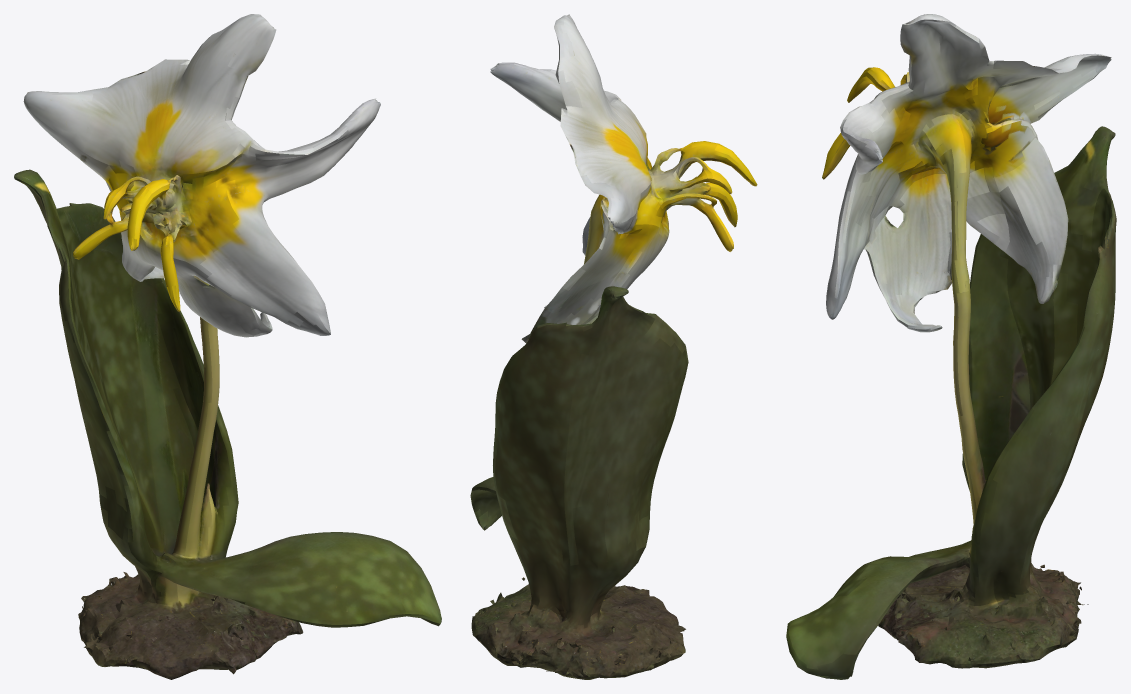
Rendered from 2цветокtled.glb.
3 renders of one model, left to right at view 1: azimuth 30°, elevation 25°; view 2: azimuth 150°, elevation 25°; view 3: azimuth 270°, elevation 25°, orthographic. The views are drawn at different scales.
Parts seen in each view (by area): view 1: Mesh0; view 2: Mesh0; view 3: Mesh0.
Boxes of the visible parts, x1,y1,x2,y2 form: Mesh0: [14, 14, 441, 679]; Mesh0: [470, 14, 757, 679]; Mesh0: [786, 14, 1116, 679].
Bounding box in the file's own units: 1.04 × 1.99 × 0.9381.
Materials: 1 (1 with a texture image).
